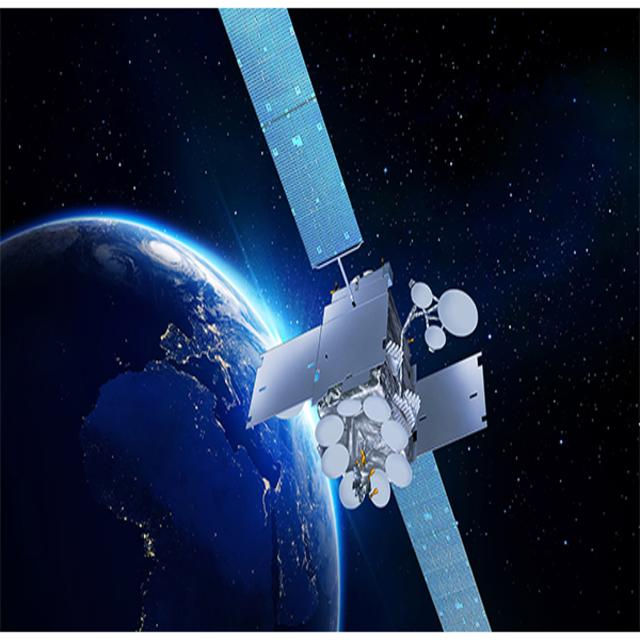satellite: (220, 9, 518, 632)
